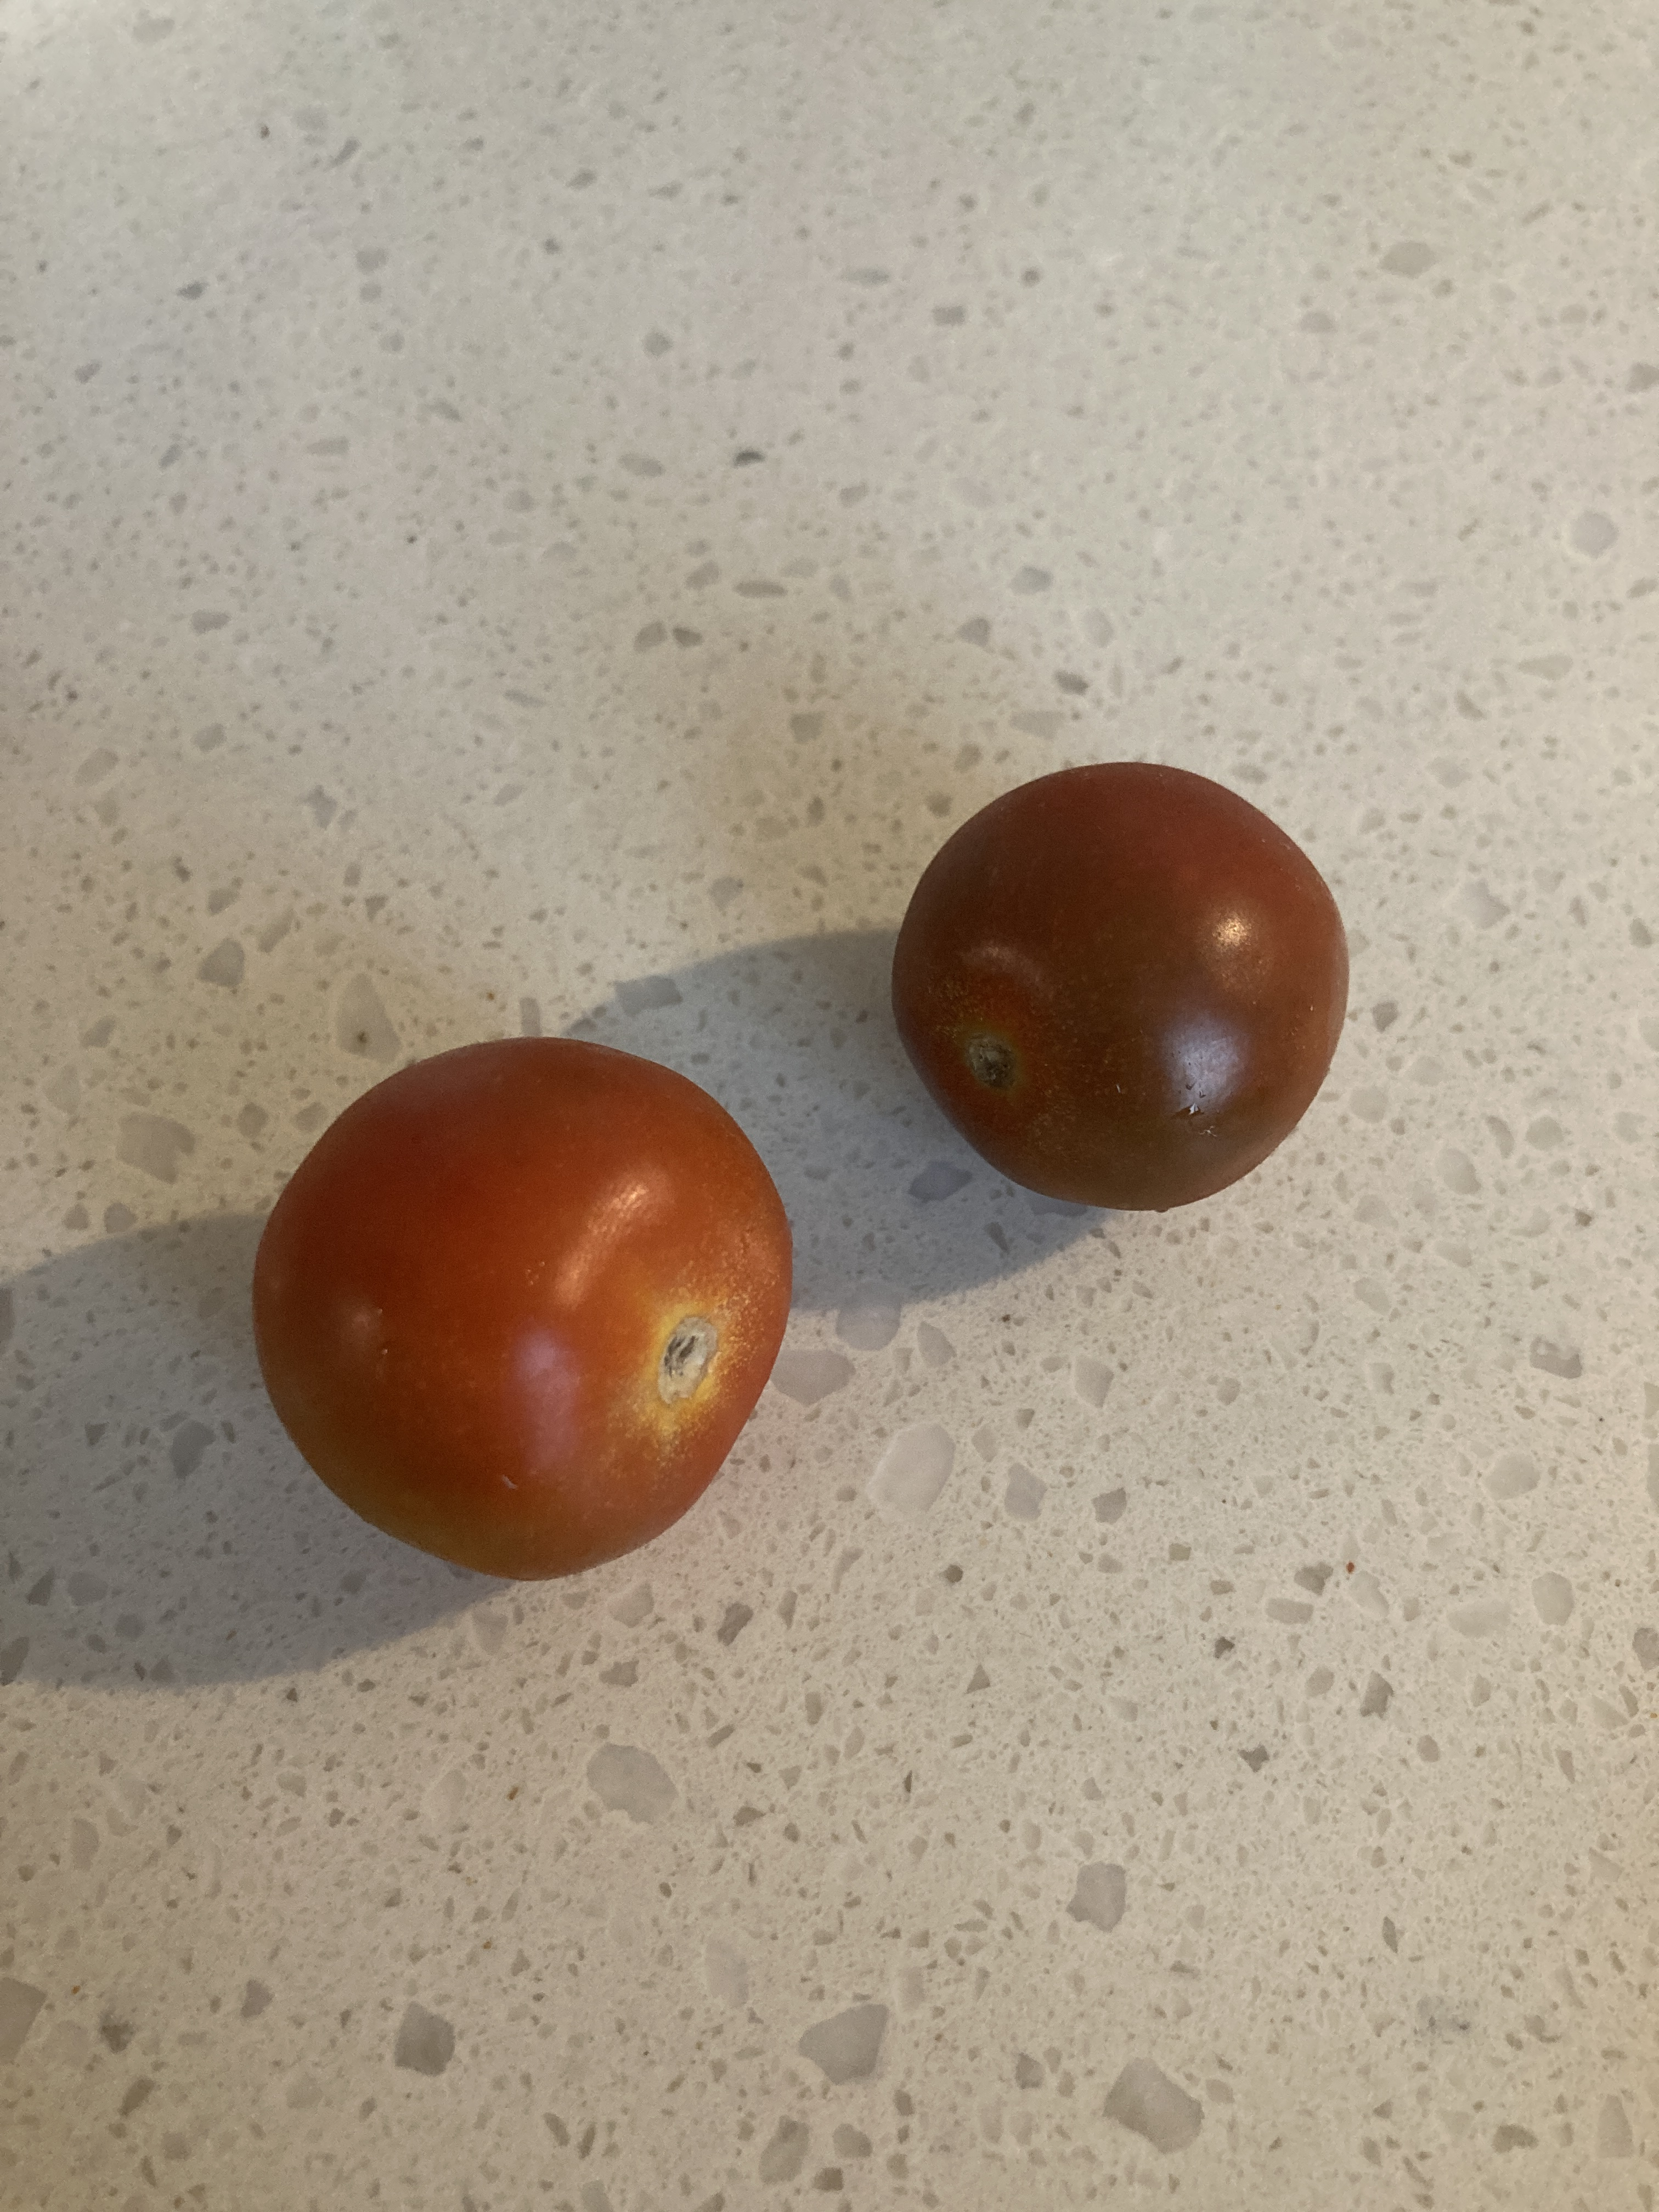healthy-tomato: (247, 1029, 796, 1578), (885, 754, 1352, 1212)
